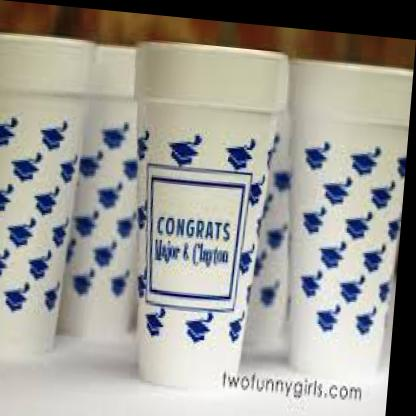Plastic: (0, 11, 415, 408)
